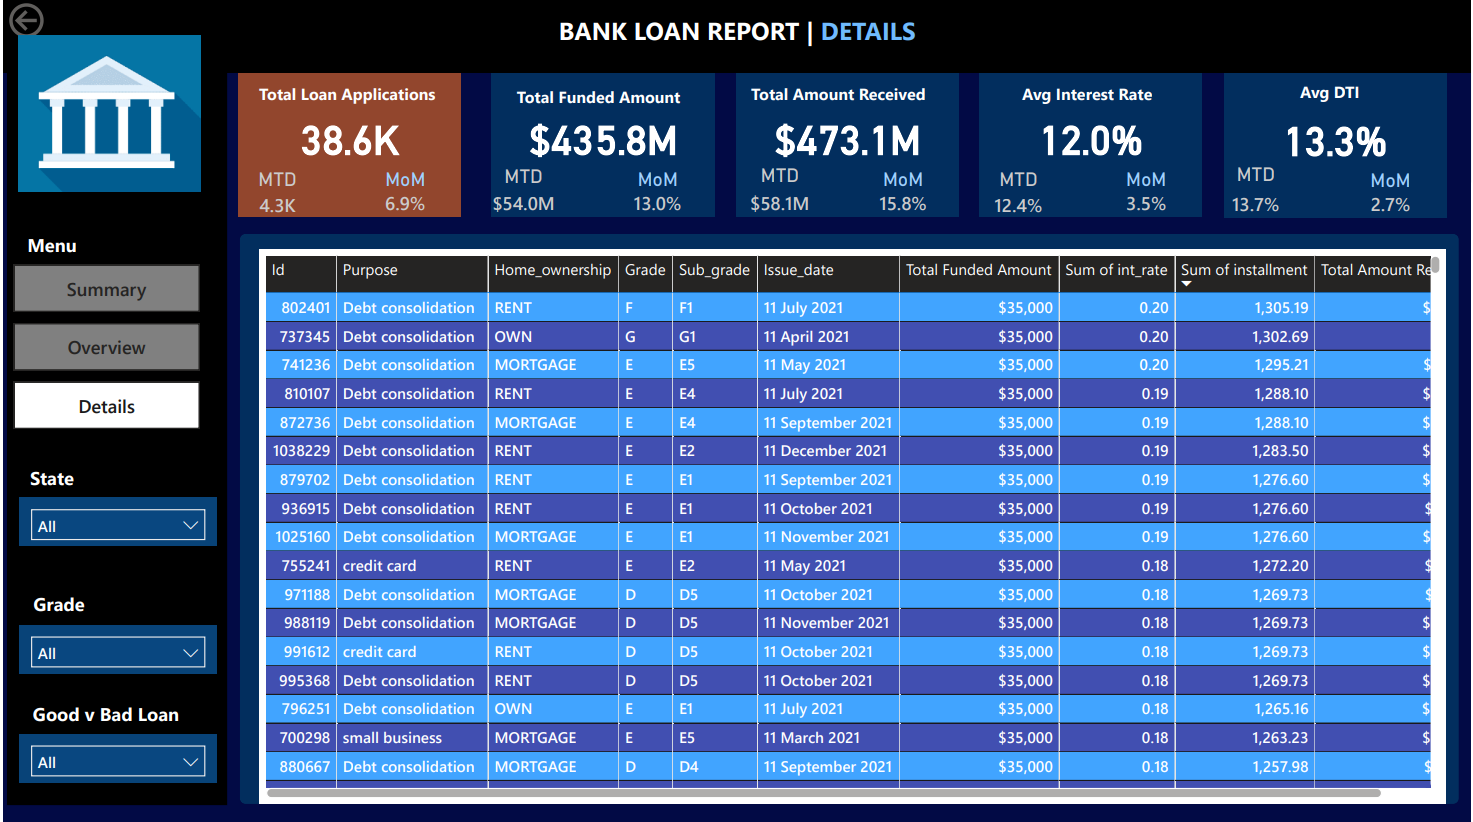

The page's visual inventory and layout, read from the dashboard file:
{"tool":"powerbi","page":{"name":"Details","canvas":[1280,720],"ordinal":2},"visuals":[{"type":"shape","box":[205.3,63.2,194.2,127.9],"z":0,"group":"g4"},{"type":"shape","box":[425.3,63.2,194.2,127.9],"z":0,"group":"g2"},{"type":"shape","box":[638.7,63.2,194.2,127.9],"z":0,"group":"g3"},{"type":"shape","box":[851.5,63.2,194.2,127.9],"z":0,"group":"g5"},{"type":"shape","box":[1064.5,63.6,194.2,127.9],"z":0,"group":"g6"},{"type":"shape","box":[205.9,205.9,1063,496.7],"z":0},{"type":"shape","box":[0,0,1279.5,55],"z":1000},{"type":"card","fields":{"Values":["bank_loan_data.Total Loan Applications"]},"box":[218.6,85.2,168.1,72.7],"z":1000,"group":"g4"},{"type":"card","fields":{"Values":["bank_loan_data.Total Funded Amount"]},"box":[438.6,85.2,168.1,72.7],"z":1000,"group":"g2"},{"type":"card","fields":{"Values":["bank_loan_data.Total Amount Received"]},"box":[652,85.2,168.1,72.7],"z":1000,"group":"g3"},{"type":"card","fields":{"Values":["bank_loan_data.Average INterest Rate"]},"box":[864.8,85.2,168.1,72.7],"z":1000,"group":"g5"},{"type":"card","fields":{"Values":["bank_loan_data.Avg DTI"]},"box":[1077.8,85.6,168.1,72.7],"z":1000,"group":"g6"},{"type":"shape","box":[3,37.9,192.3,666.3],"z":2000},{"type":"textbox","box":[1074.4,67.2,169.6,30.3],"z":2000,"group":"g6"},{"type":"textbox","box":[218.5,69,172.6,30.3],"z":2000,"group":"g4"},{"type":"textbox","box":[646.6,69.5,172.1,31.6],"z":2000,"group":"g3"},{"type":"textbox","box":[859.4,69.5,172.1,31.6],"z":2000,"group":"g5"},{"type":"textbox","box":[431.6,72,174.1,28.8],"z":2000,"group":"g2"},{"type":"textbox","box":[501.2,6.1,396.7,48.5],"z":3000},{"type":"card","title":"MTD","fields":{"Values":["bank_loan_data.MTD DTI"]},"box":[1066.6,143.4,52.1,56.8],"z":3000,"group":"g6"},{"type":"card","title":"MTD","fields":{"Values":["bank_loan_data.MTD Total Received Amount"]},"box":[639.1,145.1,75.8,53.7],"z":3000,"group":"g3"},{"type":"card","title":"MTD","fields":{"Values":["bank_loan_data.MTD Funded Amount"]},"box":[418,146.6,71.1,42.6],"z":3000,"group":"g2"},{"type":"card","title":"MTD","fields":{"Values":["bank_loan_data.MTD Loan Applications"]},"box":[213.2,148.5,52.1,42.6],"z":3000,"group":"g4"},{"type":"card","title":"MTD","fields":{"Values":["bank_loan_data.MTD Interest Rate"]},"box":[859.4,148.5,52.1,42.6],"z":3000,"group":"g5"},{"type":"group","id":"g1","title":"Group 1","box":[205.3,63.2,194.2,132.6],"z":4000},{"type":"card","title":"MoM","fields":{"Values":["bank_loan_data.MoM Loan Application"]},"box":[315.8,148.5,69.5,47.4],"z":4000,"group":"g4"},{"type":"card","title":"MoM","fields":{"Values":["bank_loan_data.MoM Funded Amount"]},"box":[535.8,148.5,69.5,47.4],"z":4000,"group":"g2"},{"type":"card","title":"MoM","fields":{"Values":["bank_loan_data.MoM Ttotal Amount Received"]},"box":[749.2,148.5,69.5,47.4],"z":4000,"group":"g3"},{"type":"card","title":"MoM","fields":{"Values":["bank_loan_data.MoM Interest Rate"]},"box":[962,148.5,69.5,47.4],"z":4000,"group":"g5"},{"type":"card","title":"MoM","fields":{"Values":["bank_loan_data.MoM DTI"]},"box":[1175,148.9,69.5,47.4],"z":4000,"group":"g6"},{"type":"group","id":"g2","title":"Group 1","box":[418,63.2,201.5,132.6],"z":5000},{"type":"group","id":"g3","title":"Group 1","box":[638.7,63.2,194.2,135.5],"z":6000},{"type":"group","id":"g4","title":"Group 2","box":[205.3,63.2,194.2,132.6],"z":6003,"group":"g1"},{"type":"group","id":"g5","title":"Group 1","box":[851.5,63.2,194.2,132.6],"z":7000},{"type":"group","id":"g6","title":"Group 1","box":[1064.5,63.6,194.2,136.6],"z":8000},{"type":"textbox","box":[784.7,219.5,168.9,30],"z":9000},{"type":"textbox","box":[205.3,492.6,129.5,37.9],"z":10000},{"type":"slicer","fields":{"Values":["bank_loan_data.Good v Bad Loan"]},"box":[13.6,642,172.6,42.4],"z":11000},{"type":"textbox","box":[23.7,617.4,104.2,7.9],"z":12000},{"type":"shape","box":[0.5,10,1279.5,55],"z":13000},{"type":"slicer","fields":{"Values":["bank_loan_data.address_state"]},"box":[13.6,436.1,172.6,42.4],"z":14000},{"type":"slicer","fields":{"Values":["bank_loan_data.grade"]},"box":[13.6,546.6,172.6,42.4],"z":15000},{"type":"textbox","box":[459.5,9.5,361.6,47.4],"z":16000},{"type":"textbox","box":[13.6,608.7,151.4,33.3],"z":17000},{"type":"textbox","box":[13.6,513.3,69.7,33.3],"z":18000},{"type":"textbox","box":[7.6,402.8,69.7,33.3],"z":19000},{"type":"tableEx","fields":{"Values":["bank_loan_data.id","bank_loan_data.purpose","bank_loan_data.home_ownership","bank_loan_data.grade","bank_loan_data.sub_grade","bank_loan_data.issue_date","bank_loan_data.Total Funded Amount","Sum(bank_loan_data.int_rate)","Sum(bank_loan_data.installment)","bank_loan_data.Total Amount Received"]},"box":[222.6,219.6,1035.7,483],"z":20000},{"type":"actionButton","box":[0,0,100,40],"z":21000},{"type":"pageNavigator","box":[9.1,233.2,162,145.4],"z":22000},{"type":"image","box":[7.6,0,169.6,201.4],"z":23000},{"type":"textbox","box":[7.6,199.9,69.7,33.3],"z":24000}]}

Visuals, with their boxes on the page's 1280x720 design canvas (x1, y1, x2, y2). These are canvas units, not pixel positions in the 1473x822 screenshot, which may show the page scaled, cropped or inside an application window:
shape: [205,63,400,191]
shape: [425,63,620,191]
shape: [639,63,833,191]
shape: [852,63,1046,191]
shape: [1064,64,1259,192]
shape: [206,206,1269,703]
shape: [0,0,1280,55]
card - bank_loan_data.Total Loan Applications: [219,85,387,158]
card - bank_loan_data.Total Funded Amount: [439,85,607,158]
card - bank_loan_data.Total Amount Received: [652,85,820,158]
card - bank_loan_data.Average INterest Rate: [865,85,1033,158]
card - bank_loan_data.Avg DTI: [1078,86,1246,158]
shape: [3,38,195,704]
textbox: [1074,67,1244,98]
textbox: [218,69,391,99]
textbox: [647,70,819,101]
textbox: [859,70,1032,101]
textbox: [432,72,606,101]
textbox: [501,6,898,55]
"MTD" card: [1067,143,1119,200]
"MTD" card: [639,145,715,199]
"MTD" card: [418,147,489,189]
"MTD" card: [213,148,265,191]
"MTD" card: [859,148,912,191]
"Group 1" group: [205,63,400,196]
"MoM" card: [316,148,385,196]
"MoM" card: [536,148,605,196]
"MoM" card: [749,148,819,196]
"MoM" card: [962,148,1032,196]
"MoM" card: [1175,149,1244,196]
"Group 1" group: [418,63,620,196]
"Group 1" group: [639,63,833,199]
"Group 2" group: [205,63,400,196]
"Group 1" group: [852,63,1046,196]
"Group 1" group: [1064,64,1259,200]
textbox: [785,220,954,250]
textbox: [205,493,335,530]
slicer - bank_loan_data.Good v Bad Loan: [14,642,186,684]
textbox: [24,617,128,625]
shape: [0,10,1280,65]
slicer - bank_loan_data.address_state: [14,436,186,478]
slicer - bank_loan_data.grade: [14,547,186,589]
textbox: [460,10,821,57]
textbox: [14,609,165,642]
textbox: [14,513,83,547]
textbox: [8,403,77,436]
tableEx - bank_loan_data.id x bank_loan_data.purpose: [223,220,1258,703]
actionButton: [0,0,100,40]
pageNavigator: [9,233,171,379]
image: [8,0,177,201]
textbox: [8,200,77,233]
